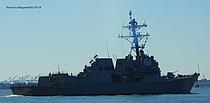MIL_Ship: (9, 11, 199, 96)
